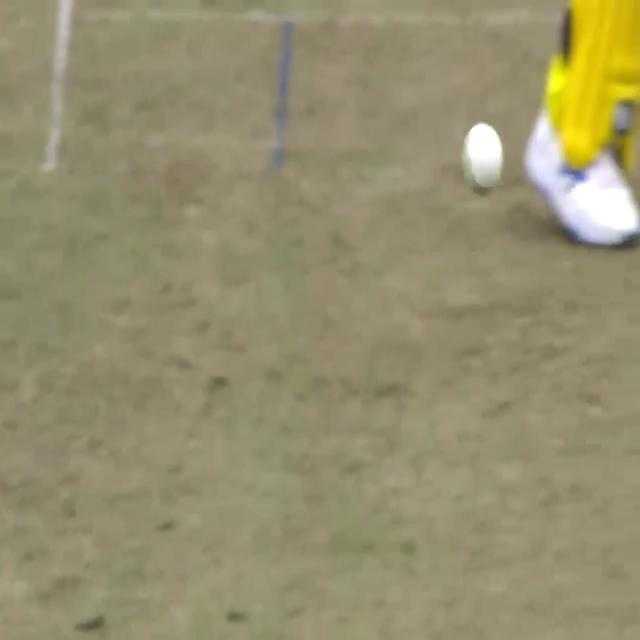ball: (458, 118, 508, 199)
